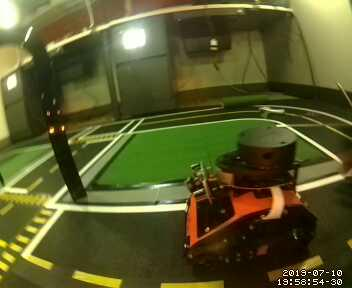pheeno: (177, 127, 321, 260)
